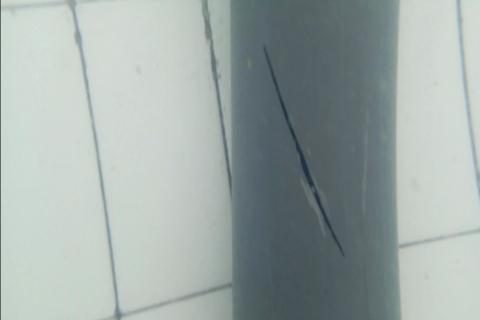keretakan: (261, 45, 347, 262)
